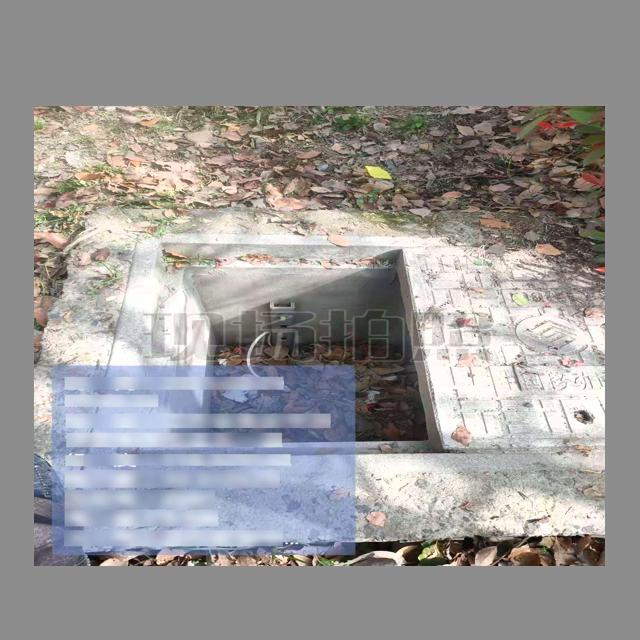lose: (96, 213, 475, 466)
